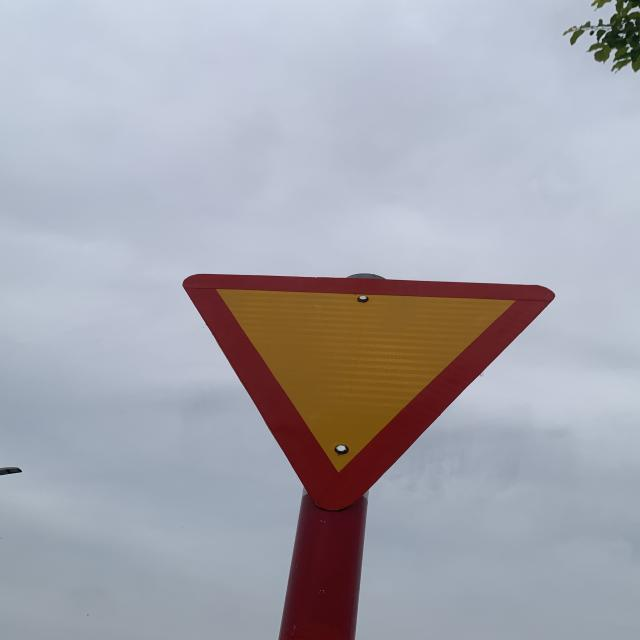Gioi_Han_Toc_Do_25: (184, 272, 559, 511)
